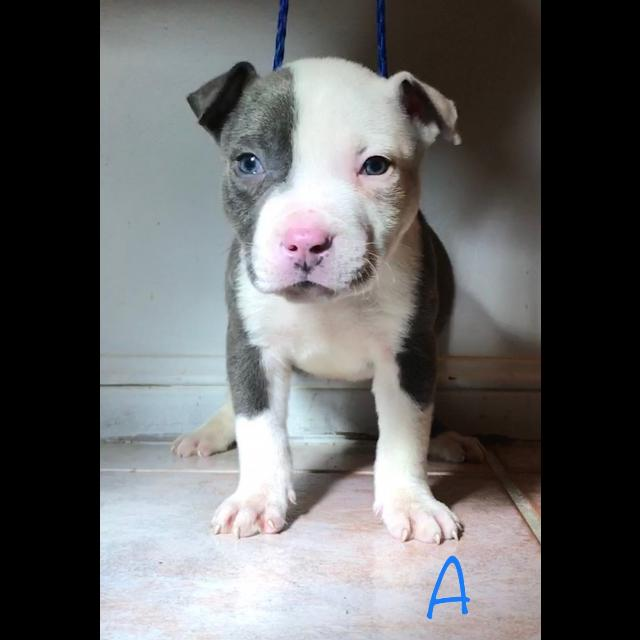am_pit_bull_terrier: (170, 57, 486, 546)
